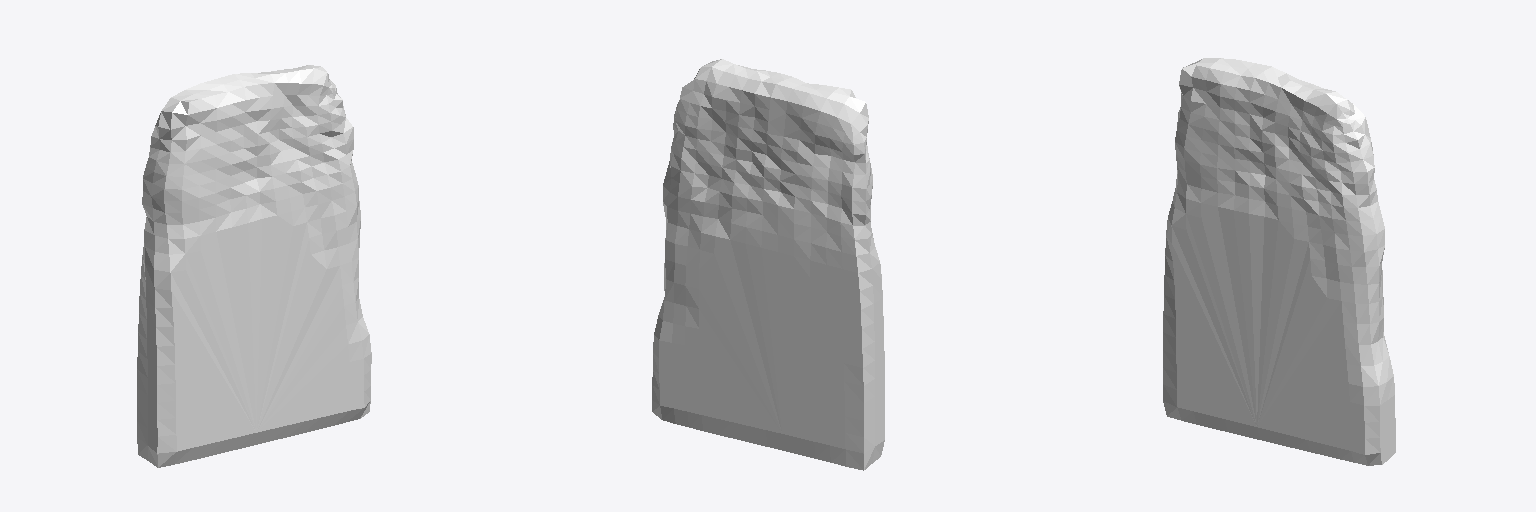
Rendered from Brick05.Obj.
The picture shows the model from 3 angles: view 1: azimuth 30°, elevation 25°; view 2: azimuth 150°, elevation 25°; view 3: azimuth 330°, elevation 25°; orthographic projection.
Parts seen in each view (by area): view 1: Volume14; view 2: Volume14; view 3: Volume14.
Boxes of the visible parts, x1=… form: Volume14: x1=137, y1=65, x2=371, y2=467; Volume14: x1=652, y1=59, x2=884, y2=470; Volume14: x1=1163, y1=58, x2=1395, y2=465.
Size of the model in its own units: 165 by 265 by 31.13.